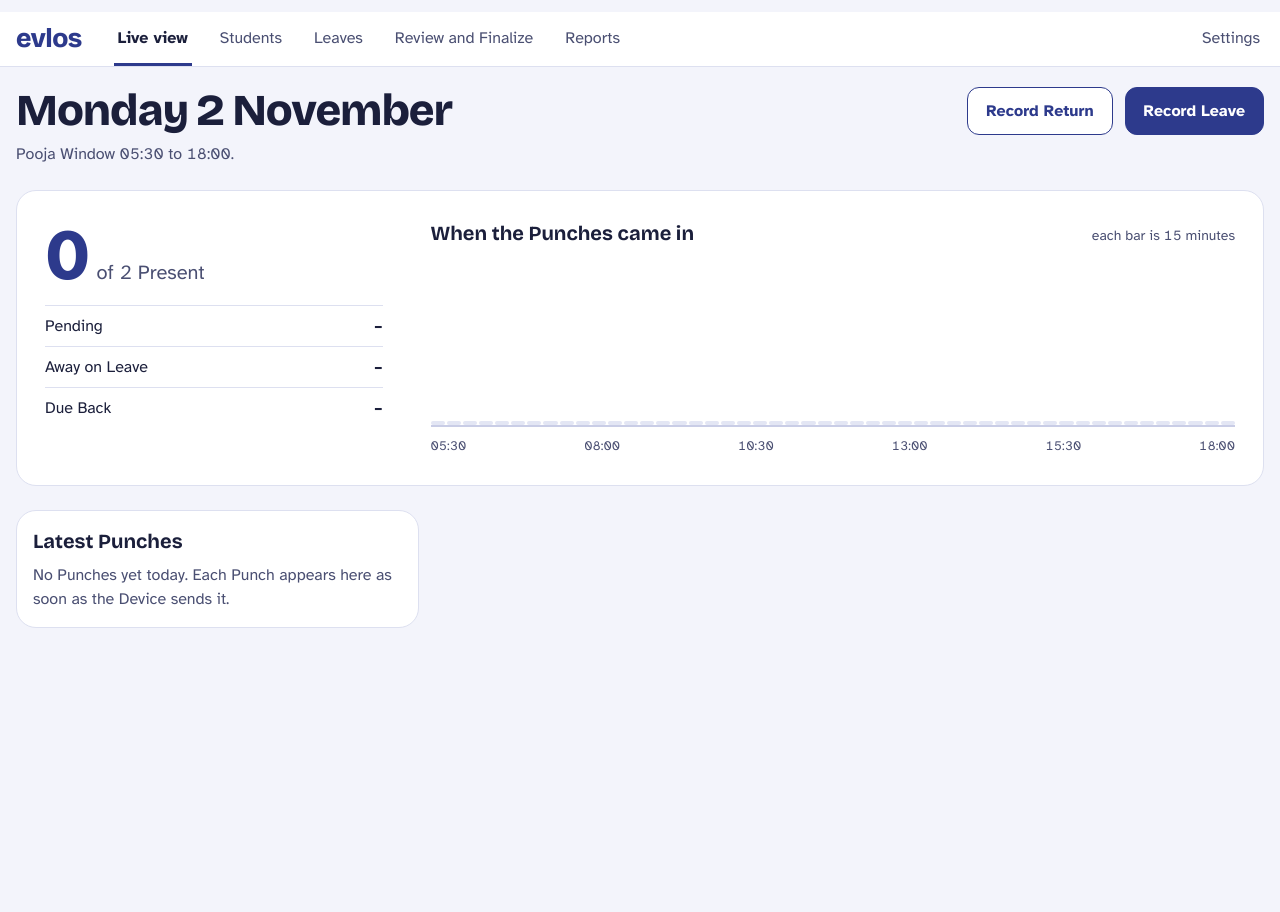
Test: menu › opens the Reports page on this month, with its period choices
Expected: the text "No Punches yet" is shown, [33,564,392,608]
Click the button "Reports".
click(593, 39)  # box [561,12,624,66]
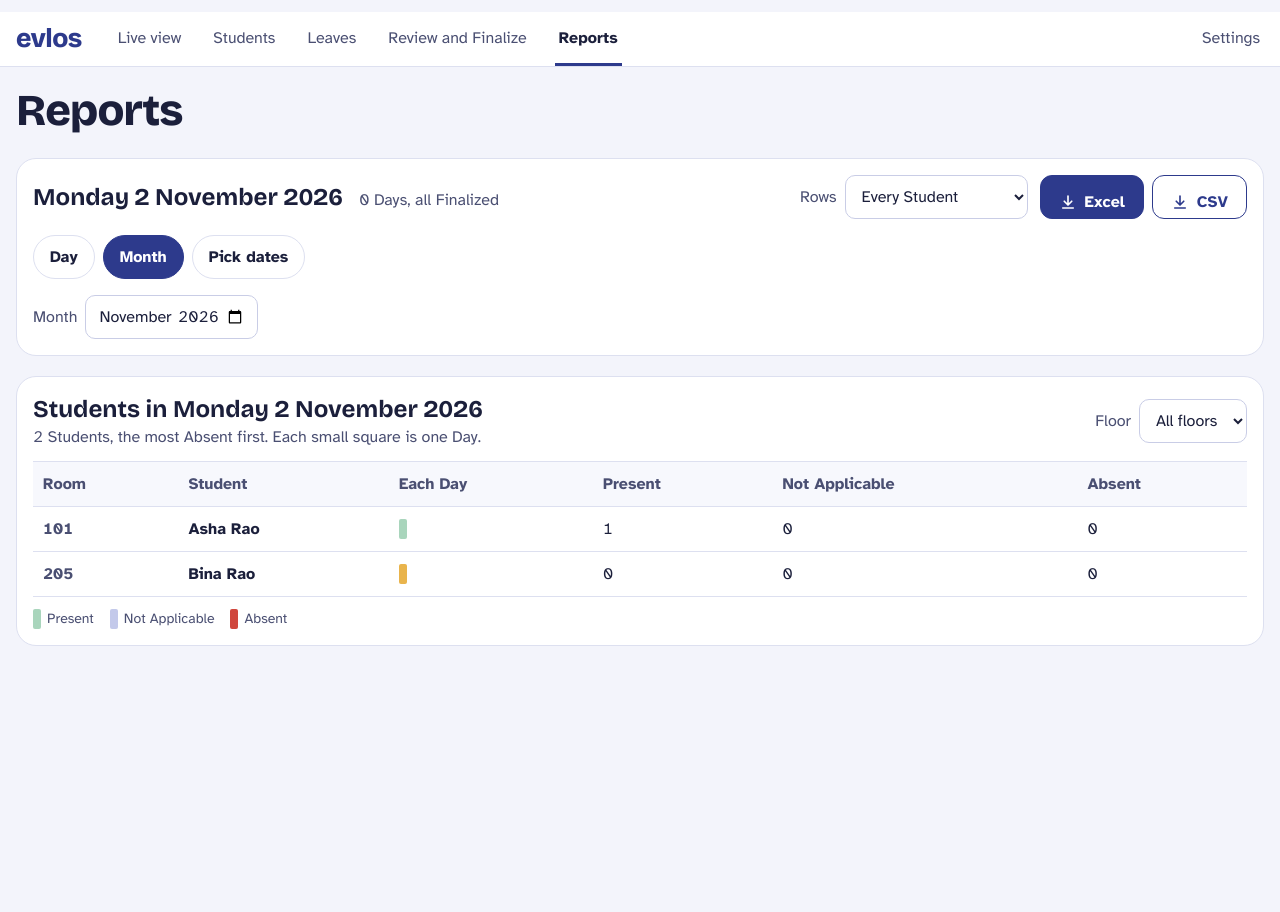
Expected: the heading "Reports" is shown, [16,84,182,137]
Expected: the element named "Month report" is shown, [16,158,1264,356]
